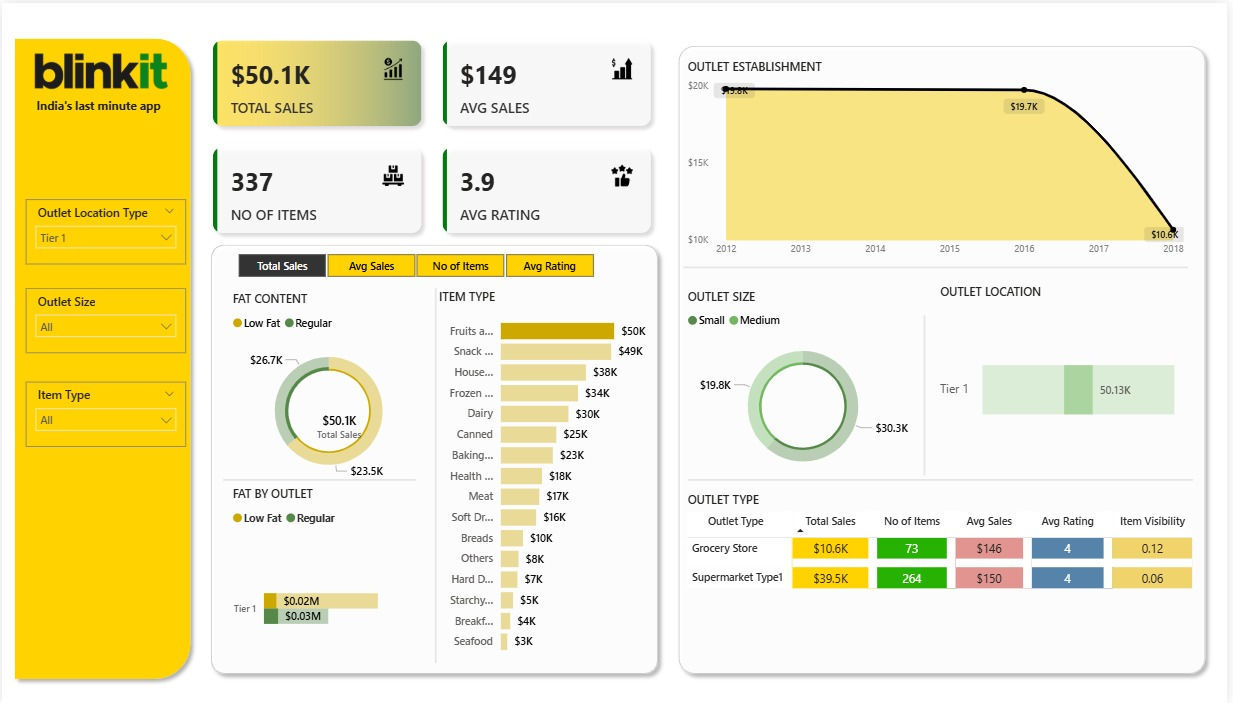

The dashboard page shown, as its layout file describes it:
{"tool":"powerbi","page":{"name":"Page 1","canvas":[1400,800],"ordinal":0},"visuals":[{"type":"shape","box":[8.6,0,218.6,750],"z":0},{"type":"textbox","box":[34.3,102.9,158.6,32.9],"z":1000},{"type":"image","box":[17.1,40,192.9,80],"z":2000},{"type":"cardVisual","fields":{"Data":["BlinkIT Grocery Data.Total Sales","BlinkIT Grocery Data.Avg Sales","BlinkIT Grocery Data.No of Items","BlinkIT Grocery Data.Avg Rating"]},"box":[224.3,25.7,534.3,254.3],"z":3000},{"type":"shape","box":[230,267.1,528.6,508.6],"z":4000},{"type":"donutChart","title":"FAT CONTENT","fields":{"Y":["BlinkIT Grocery Data.Total Sales"],"Category":["BlinkIT Grocery Data.Item Fat Content"]},"box":[258.6,328.6,230,230],"z":5000},{"type":"slicer","fields":{"Values":["Metric.Metric"]},"box":[244.3,280,455.7,37.1],"z":6000},{"type":"cardVisual","fields":{"Data":["BlinkIT Grocery Data.Total Sales"]},"box":[332.9,451.4,105.7,58.6],"z":7000},{"type":"clusteredBarChart","title":"FAT BY OUTLET","fields":{"Y":["BlinkIT Grocery Data.Total Sales"],"Category":["BlinkIT Grocery Data.Outlet Location Type"],"Series":["BlinkIT Grocery Data.Item Fat Content"]},"box":[258.6,551.4,220,230],"z":8000},{"type":"shape","box":[252.9,538.6,220,12.9],"z":9000},{"type":"shape","box":[475.7,325.7,40,428.6],"z":10000},{"type":"barChart","title":"ITEM TYPE","fields":{"Y":["BlinkIT Grocery Data.Total Sales"],"Category":["BlinkIT Grocery Data.Item Type"]},"box":[494.3,325.7,250,428.6],"z":11000},{"type":"shape","box":[764.3,40,620,735.7],"z":12000},{"type":"lineChart","title":"OUTLET ESTABLISHMENT","fields":{"Category":["BlinkIT Grocery Data.Outlet Establishment Year"],"Y":["BlinkIT Grocery Data.Total Sales"]},"box":[778.6,62.9,577.1,235.7],"z":13000},{"type":"shape","box":[778.6,287.1,577.1,30],"z":14000},{"type":"donutChart","title":"OUTLET SIZE","fields":{"Y":["BlinkIT Grocery Data.Total Sales"],"Category":["BlinkIT Grocery Data.Outlet Size"]},"box":[778.6,325.7,274,225],"z":15000},{"type":"shape","box":[1034.3,357.1,40,182.9],"z":16000},{"type":"funnel","title":"OUTLET LOCATION","fields":{"Y":["Sum(BlinkIT Grocery Data.Sales)"],"Category":["BlinkIT Grocery Data.Outlet Location Type"]},"box":[1067.1,320,282.9,225.7],"z":17000},{"type":"shape","box":[784.3,530,577.1,30],"z":18000},{"type":"pivotTable","title":"OUTLET TYPE","fields":{"Rows":["BlinkIT Grocery Data.Outlet Type"],"Values":["BlinkIT Grocery Data.Total Sales","BlinkIT Grocery Data.No of Items","BlinkIT Grocery Data.Avg Sales","BlinkIT Grocery Data.Avg Rating","Avg(BlinkIT Grocery Data.Item Visibility)"]},"box":[778.6,558.6,605.7,195.7],"z":19000},{"type":"slicer","fields":{"Values":["BlinkIT Grocery Data.Outlet Location Type"]},"box":[27.1,224.3,182.9,74.3],"z":20000},{"type":"slicer","fields":{"Values":["BlinkIT Grocery Data.Outlet Size"]},"box":[27.1,325.7,182.9,74.3],"z":21000},{"type":"slicer","fields":{"Values":["BlinkIT Grocery Data.Item Type"]},"box":[27.1,432.9,182.9,74.3],"z":22000}]}

Visuals, with their boxes in screenshot pixels (x1, y1, x2, y2), scaled from the page's 1400x800 canvas onto the 1233x703 screenshot:
shape: {"left": 8, "top": 0, "right": 200, "bottom": 659}
textbox: {"left": 30, "top": 90, "right": 170, "bottom": 119}
image: {"left": 15, "top": 35, "right": 185, "bottom": 105}
cardVisual - BlinkIT Grocery Data.Total Sales x BlinkIT Grocery Data.Avg Sales: {"left": 198, "top": 23, "right": 668, "bottom": 246}
shape: {"left": 203, "top": 235, "right": 668, "bottom": 682}
"FAT CONTENT" donutChart: {"left": 228, "top": 289, "right": 430, "bottom": 491}
slicer - Metric.Metric: {"left": 215, "top": 246, "right": 616, "bottom": 279}
cardVisual - BlinkIT Grocery Data.Total Sales: {"left": 293, "top": 397, "right": 386, "bottom": 448}
"FAT BY OUTLET" clusteredBarChart: {"left": 228, "top": 485, "right": 422, "bottom": 687}
shape: {"left": 223, "top": 473, "right": 416, "bottom": 485}
shape: {"left": 419, "top": 286, "right": 454, "bottom": 663}
"ITEM TYPE" barChart: {"left": 435, "top": 286, "right": 656, "bottom": 663}
shape: {"left": 673, "top": 35, "right": 1219, "bottom": 682}
"OUTLET ESTABLISHMENT" lineChart: {"left": 686, "top": 55, "right": 1194, "bottom": 262}
shape: {"left": 686, "top": 252, "right": 1194, "bottom": 279}
"OUTLET SIZE" donutChart: {"left": 686, "top": 286, "right": 927, "bottom": 484}
shape: {"left": 911, "top": 314, "right": 946, "bottom": 475}
"OUTLET LOCATION" funnel: {"left": 940, "top": 281, "right": 1189, "bottom": 480}
shape: {"left": 691, "top": 466, "right": 1199, "bottom": 492}
"OUTLET TYPE" pivotTable: {"left": 686, "top": 491, "right": 1219, "bottom": 663}
slicer - BlinkIT Grocery Data.Outlet Location Type: {"left": 24, "top": 197, "right": 185, "bottom": 262}
slicer - BlinkIT Grocery Data.Outlet Size: {"left": 24, "top": 286, "right": 185, "bottom": 352}
slicer - BlinkIT Grocery Data.Item Type: {"left": 24, "top": 380, "right": 185, "bottom": 446}
